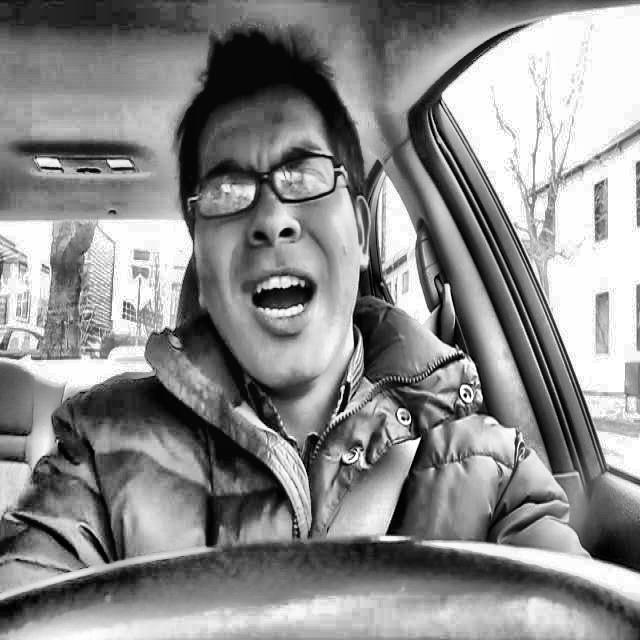open_mouth: (220, 252, 336, 345)
